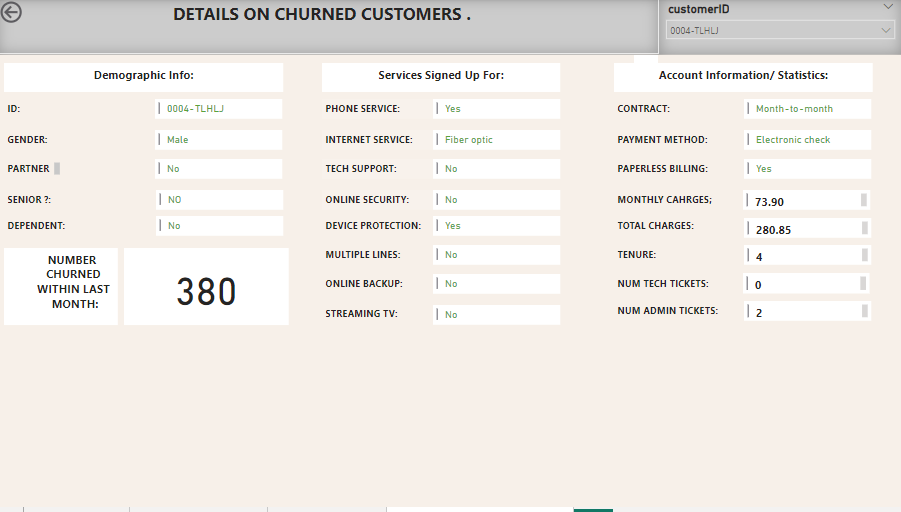

The page's visual inventory and layout, read from the dashboard file:
{"tool":"powerbi","page":{"name":"Churned customers Details","canvas":[1280,720],"ordinal":2},"visuals":[{"type":"textbox","box":[0,0,935.9,79.8],"z":0},{"type":"slicer","fields":{"Values":["01 Churn-Dataset.customerID"]},"box":[935.9,0,344.1,79.8],"z":1000},{"type":"textbox","box":[9.6,92.2,395,41.3],"z":2000},{"type":"textbox","box":[459.7,92.2,337.2,41.3],"z":3000},{"type":"textbox","box":[872.6,92.2,366.1,41.3],"z":4000},{"type":"textbox","box":[9.6,143.1,84,27],"z":5000},{"type":"textbox","box":[9.6,187.2,84,27],"z":6000},{"type":"textbox","box":[9.6,227.1,84,27],"z":7000},{"type":"textbox","box":[9.6,271.1,84,27],"z":8000},{"type":"textbox","box":[459.7,187.2,157,27.5],"z":9000},{"type":"textbox","box":[459.7,271.1,157,27.5],"z":10000},{"type":"textbox","box":[459.7,143.1,157,27.5],"z":11000},{"type":"textbox","box":[459.7,227.1,157,27.5],"z":12000},{"type":"textbox","box":[459.7,308.3,157,30.3],"z":13000},{"type":"textbox","box":[872.6,227.1,145.9,27.5],"z":14000},{"type":"textbox","box":[872.6,271.1,155.5,27.5],"z":15000},{"type":"textbox","box":[872.6,308.3,145.9,30.3],"z":16000},{"type":"textbox","box":[872.6,349.6,145.9,27.5],"z":17000},{"type":"textbox","box":[872.6,187.2,145.9,27.5],"z":18000},{"type":"textbox","box":[872.6,143.1,145.9,27.5],"z":19000},{"type":"textbox","box":[0,475.1,723,179.6],"z":20000},{"type":"multiRowCard","fields":{"Values":["01 Churn-Dataset.customerID"]},"box":[223,143.1,180.3,27.5],"z":21000},{"type":"multiRowCard","fields":{"Values":["01 Churn-Dataset.gender"]},"box":[223,187.2,180.3,27.5],"z":22000},{"type":"multiRowCard","fields":{"Values":["01 Churn-Dataset.Partner"]},"box":[223,227.1,180.3,27.5],"z":23000},{"type":"multiRowCard","fields":{"Values":["01 Churn-Dataset.SeniorCitizen"]},"box":[224.3,271.1,180.3,27.5],"z":24000},{"type":"multiRowCard","fields":{"Values":["01 Churn-Dataset.PhoneService"]},"box":[616.6,143.1,180.3,27.5],"z":25000},{"type":"multiRowCard","fields":{"Values":["01 Churn-Dataset.OnlineSecurity"]},"box":[616.6,271.1,180.3,27.5],"z":26000},{"type":"multiRowCard","fields":{"Values":["01 Churn-Dataset.TechSupport"]},"box":[616.6,227.1,180.3,27.5],"z":27000},{"type":"multiRowCard","fields":{"Values":["01 Churn-Dataset.InternetService"]},"box":[616.6,187.2,180.3,27.5],"z":28000},{"type":"multiRowCard","fields":{"Values":["01 Churn-Dataset.PaymentMethod"]},"box":[1056,187.2,180,28],"z":29000},{"type":"multiRowCard","fields":{"Values":["Sum(01 Churn-Dataset.tenure)"]},"box":[1056,349.6,180,28],"z":30000},{"type":"multiRowCard","fields":{"Values":["01 Churn-Dataset.Contract"]},"box":[1056,143.1,180,27.5],"z":31000},{"type":"multiRowCard","fields":{"Values":["Sum(01 Churn-Dataset.MonthlyCharges)"]},"box":[1055.7,271.1,180,28],"z":32000},{"type":"multiRowCard","fields":{"Values":["01 Churn-Dataset.PaperlessBilling"]},"box":[1056,227.1,180,28],"z":33000},{"type":"multiRowCard","fields":{"Values":["01 Churn-Dataset.DeviceProtection"]},"box":[616.6,308.3,180.3,27.5],"z":34000},{"type":"multiRowCard","fields":{"Values":["01 Churn-Dataset.Churn"]},"box":[1070.4,475.1,181.1,40.1],"z":35000},{"type":"textbox","box":[9.6,308.3,104.6,27.5],"z":36000},{"type":"multiRowCard","fields":{"Values":["01 Churn-Dataset.Dependents"]},"box":[224.3,308.3,180.3,27.5],"z":37000},{"type":"textbox","box":[459.7,390.9,157,38.5],"z":38000},{"type":"textbox","box":[459.7,432.2,156.9,30.3],"z":39000},{"type":"textbox","box":[459.7,349.6,157,31.7],"z":40000},{"type":"multiRowCard","fields":{"Values":["01 Churn-Dataset.StreamingTV"]},"box":[616.6,434.9,180.3,27.5],"z":41000},{"type":"multiRowCard","fields":{"Values":["01 Churn-Dataset.OnlineBackup"]},"box":[616.6,390.9,180.3,27.5],"z":42000},{"type":"multiRowCard","fields":{"Values":["01 Churn-Dataset.MultipleLines"]},"box":[616.6,349.6,180.3,27.5],"z":43000},{"type":"multiRowCard","fields":{"Values":["Sum(01 Churn-Dataset.TotalCharges)"]},"box":[1056,311.1,180,28],"z":44000},{"type":"textbox","box":[872.6,390.9,155.5,27.5],"z":45000},{"type":"multiRowCard","fields":{"Values":["Sum(01 Churn-Dataset.numOpenTickets)"]},"box":[1055.7,389.5,178.9,28.9],"z":46000},{"type":"textbox","box":[740.8,565.6,298.4,89.1],"z":47000},{"type":"card","title":"Last Month Churn","fields":{"Values":["measures (2).countOfLastMonthChurn"]},"box":[1055.5,565.6,210.8,89.1],"z":48000},{"type":"actionButton","box":[0,0,100,40],"z":49000},{"type":"textbox","box":[740.8,475.1,298.4,40.1],"z":49001}]}

Visuals, with their boxes on the page's 1280x720 design canvas (x1, y1, x2, y2). These are canvas units, not pixel positions in the 901x512 screenshot, which may show the page scaled, cropped or inside an application window:
textbox: [0,0,936,80]
slicer - 01 Churn-Dataset.customerID: [936,0,1280,80]
textbox: [10,92,405,134]
textbox: [460,92,797,134]
textbox: [873,92,1239,134]
textbox: [10,143,94,170]
textbox: [10,187,94,214]
textbox: [10,227,94,254]
textbox: [10,271,94,298]
textbox: [460,187,617,215]
textbox: [460,271,617,299]
textbox: [460,143,617,171]
textbox: [460,227,617,255]
textbox: [460,308,617,339]
textbox: [873,227,1018,255]
textbox: [873,271,1028,299]
textbox: [873,308,1018,339]
textbox: [873,350,1018,377]
textbox: [873,187,1018,215]
textbox: [873,143,1018,171]
textbox: [0,475,723,655]
multiRowCard - 01 Churn-Dataset.customerID: [223,143,403,171]
multiRowCard - 01 Churn-Dataset.gender: [223,187,403,215]
multiRowCard - 01 Churn-Dataset.Partner: [223,227,403,255]
multiRowCard - 01 Churn-Dataset.SeniorCitizen: [224,271,405,299]
multiRowCard - 01 Churn-Dataset.PhoneService: [617,143,797,171]
multiRowCard - 01 Churn-Dataset.OnlineSecurity: [617,271,797,299]
multiRowCard - 01 Churn-Dataset.TechSupport: [617,227,797,255]
multiRowCard - 01 Churn-Dataset.InternetService: [617,187,797,215]
multiRowCard - 01 Churn-Dataset.PaymentMethod: [1056,187,1236,215]
multiRowCard - Sum(01 Churn-Dataset.tenure): [1056,350,1236,378]
multiRowCard - 01 Churn-Dataset.Contract: [1056,143,1236,171]
multiRowCard - Sum(01 Churn-Dataset.MonthlyCharges): [1056,271,1236,299]
multiRowCard - 01 Churn-Dataset.PaperlessBilling: [1056,227,1236,255]
multiRowCard - 01 Churn-Dataset.DeviceProtection: [617,308,797,336]
multiRowCard - 01 Churn-Dataset.Churn: [1070,475,1252,515]
textbox: [10,308,114,336]
multiRowCard - 01 Churn-Dataset.Dependents: [224,308,405,336]
textbox: [460,391,617,429]
textbox: [460,432,617,462]
textbox: [460,350,617,381]
multiRowCard - 01 Churn-Dataset.StreamingTV: [617,435,797,462]
multiRowCard - 01 Churn-Dataset.OnlineBackup: [617,391,797,418]
multiRowCard - 01 Churn-Dataset.MultipleLines: [617,350,797,377]
multiRowCard - Sum(01 Churn-Dataset.TotalCharges): [1056,311,1236,339]
textbox: [873,391,1028,418]
multiRowCard - Sum(01 Churn-Dataset.numOpenTickets): [1056,390,1235,418]
textbox: [741,566,1039,655]
"Last Month Churn" card: [1056,566,1266,655]
actionButton: [0,0,100,40]
textbox: [741,475,1039,515]
